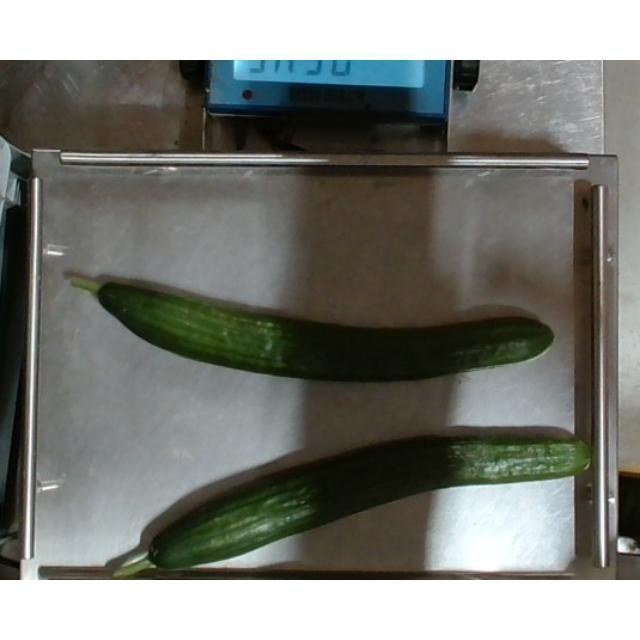cucumber: (100, 418, 600, 578), (61, 266, 560, 386)
